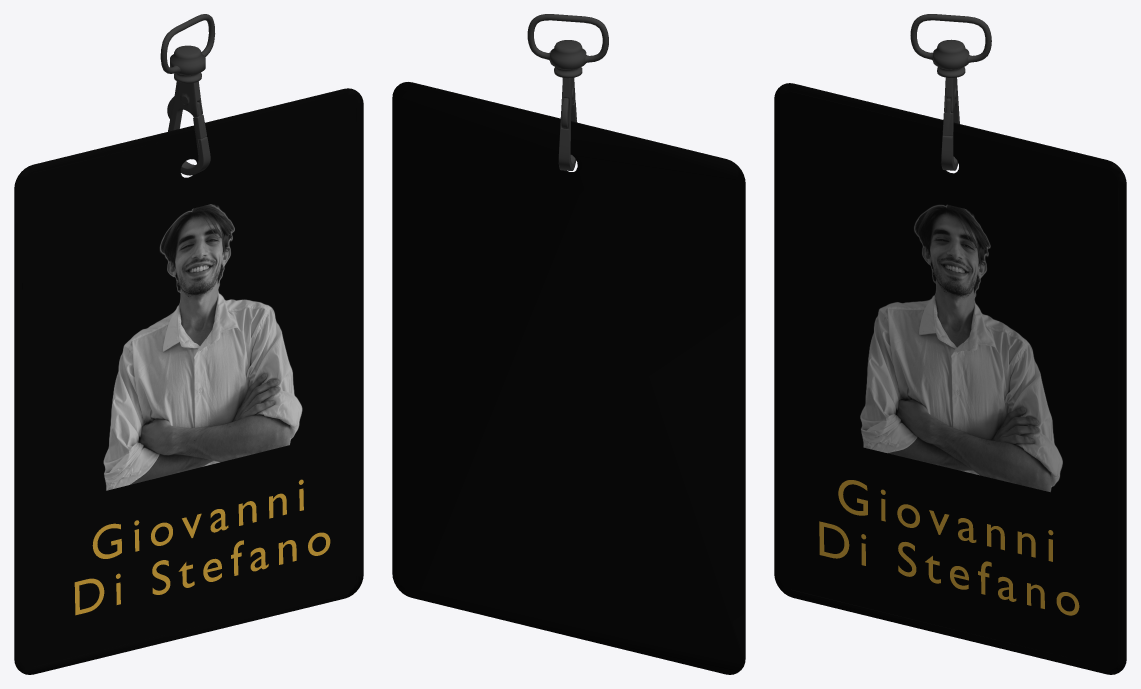
The model's file is gianniBadgeV0-amber-v1.glb.
3 views of the same model, side by side, from view 1: azimuth 30°, elevation 25°; view 2: azimuth 150°, elevation 25°; view 3: azimuth 330°, elevation 25° (orthographic).
Visible parts, largest first — view 1: card, gianni-blur, Text, clip; view 2: card, clip; view 3: card, gianni-blur, Text, clip.
Boxes of the visible parts, x1,y1,x2,y2 form: card: (14, 88, 363, 674); gianni-blur: (103, 204, 302, 490); Text: (74, 479, 330, 615); clip: (160, 14, 215, 175); card: (392, 82, 745, 674); clip: (527, 14, 608, 170); card: (774, 83, 1126, 674); gianni-blur: (860, 204, 1062, 491); Text: (819, 480, 1079, 615); clip: (910, 14, 991, 170).
Size of the model in its own units: 0.7164 by 1.21 by 0.0903.
4 materials, 1 textured.
